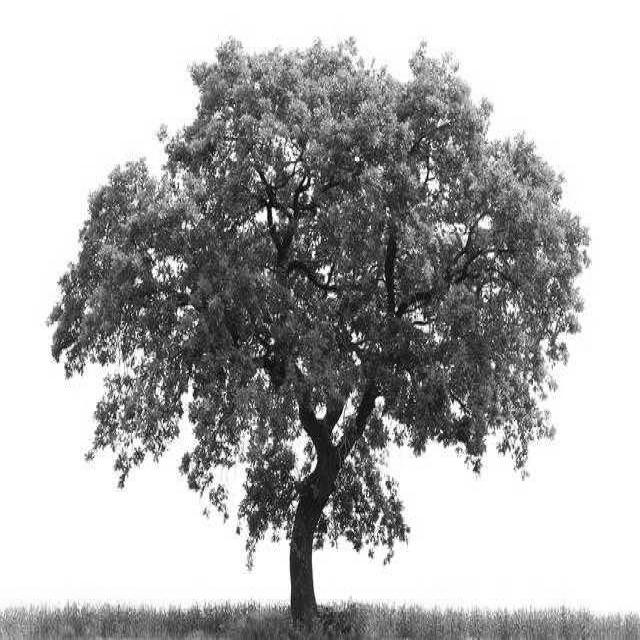Tree: (51, 42, 588, 621)
